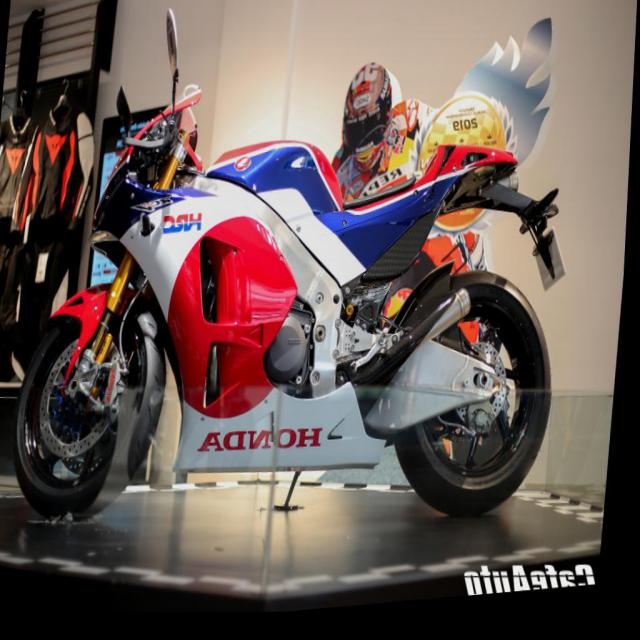HRC RCV 213: (7, 49, 587, 564)
